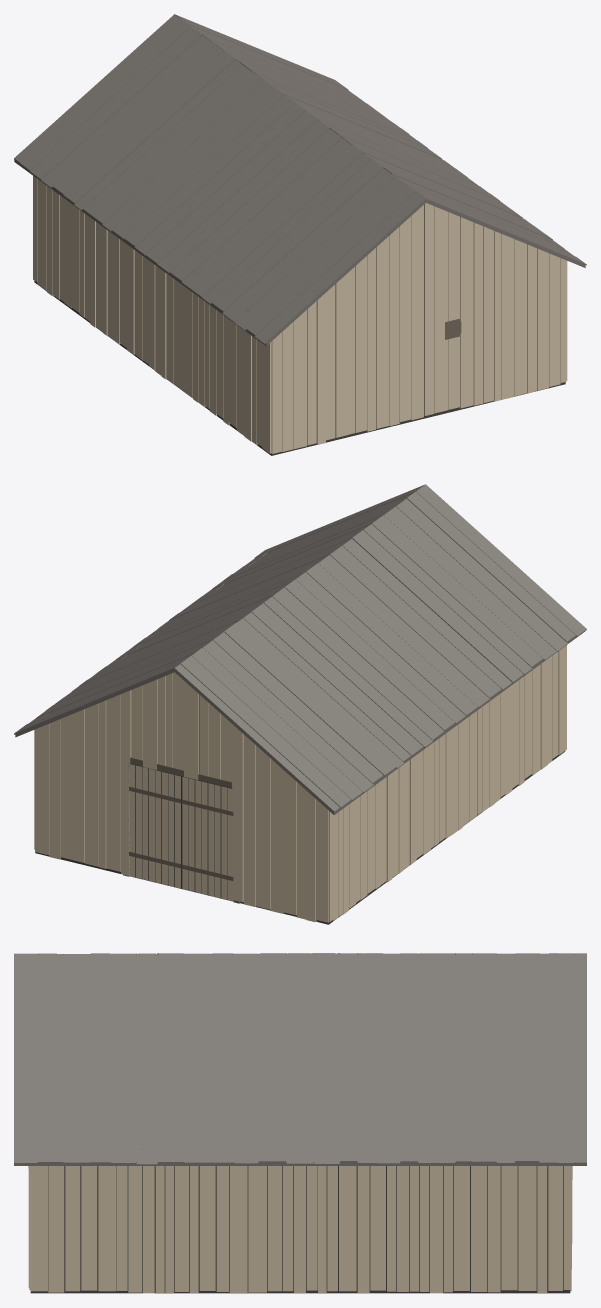
The model's file is recon_1835_south_f1_038__inferred_1835.glb.
3 views of the same model, one above another, from view 1: azimuth 30°, elevation 25°; view 2: azimuth 150°, elevation 25°; view 3: azimuth 270°, elevation 25° (orthographic). The views are drawn at different scales.
Parts seen in each view (by area): view 1: recon_1835_south_f1_038__inferred_1835; view 2: recon_1835_south_f1_038__inferred_1835; view 3: recon_1835_south_f1_038__inferred_1835.
Boxes of the visible parts, bbox=[...] form: recon_1835_south_f1_038__inferred_1835: bbox=[14, 14, 586, 455]; recon_1835_south_f1_038__inferred_1835: bbox=[14, 484, 586, 924]; recon_1835_south_f1_038__inferred_1835: bbox=[14, 953, 586, 1293].
Bounding box in the file's own units: 8.93 × 5.99 × 12.04.
